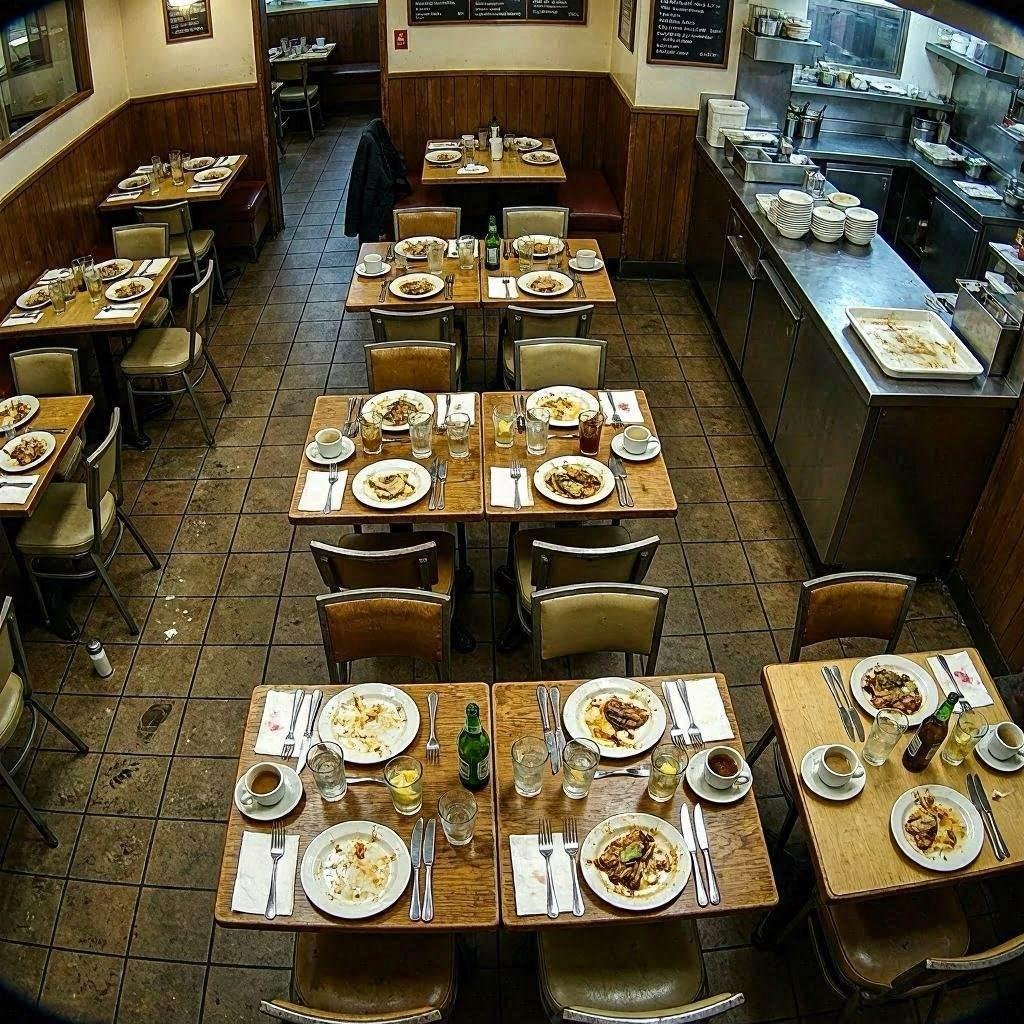dirty: (239, 672, 771, 908), (766, 648, 1024, 883), (304, 390, 669, 513), (356, 230, 613, 321), (17, 250, 183, 325), (436, 133, 578, 189), (0, 388, 58, 510), (133, 148, 254, 198)
